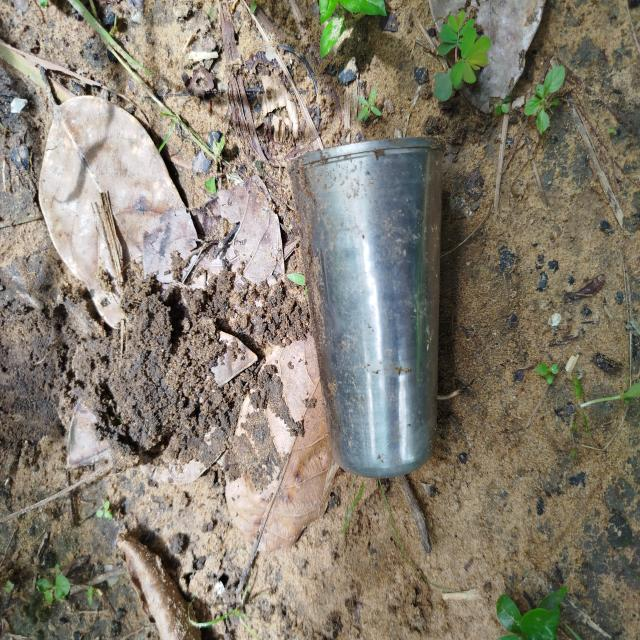metal: (274, 135, 456, 486)
